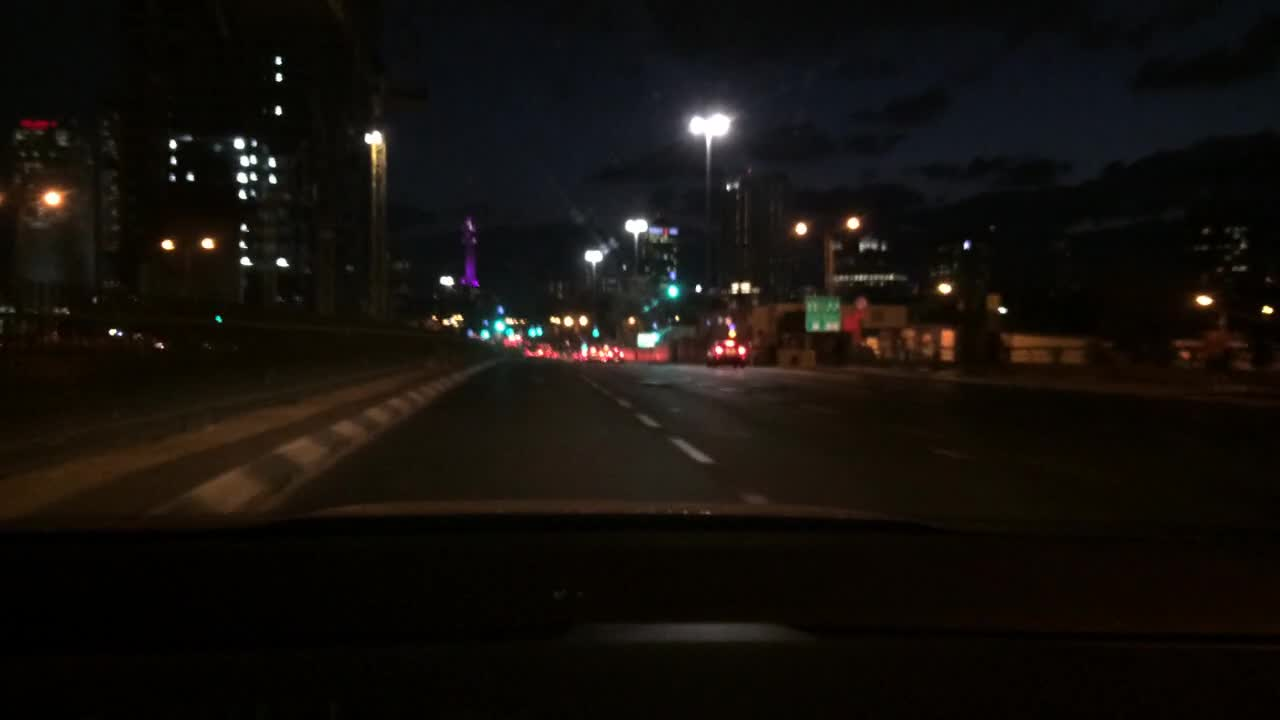car: (703, 336, 751, 368), (588, 343, 605, 361), (606, 347, 623, 363), (522, 343, 541, 356), (544, 346, 560, 360), (500, 339, 518, 349), (573, 349, 586, 360)
person: (1206, 327, 1229, 390)
traffic light: (528, 325, 543, 335), (668, 286, 678, 299), (213, 312, 226, 322), (591, 327, 600, 336), (493, 320, 502, 327), (481, 331, 490, 336)
traffic sign: (804, 293, 839, 331)
